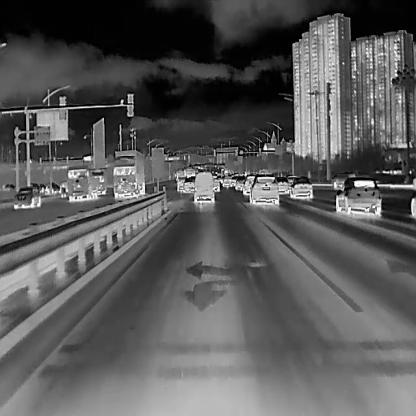car: (335, 176, 380, 214), (249, 174, 278, 203), (192, 168, 213, 205), (12, 186, 39, 208), (290, 176, 312, 198), (274, 176, 290, 193), (244, 174, 255, 196), (183, 176, 194, 192), (235, 175, 245, 190), (176, 176, 184, 192), (222, 175, 230, 187), (213, 177, 219, 192)
truck: (110, 150, 146, 198), (64, 166, 98, 200), (91, 168, 107, 194)
